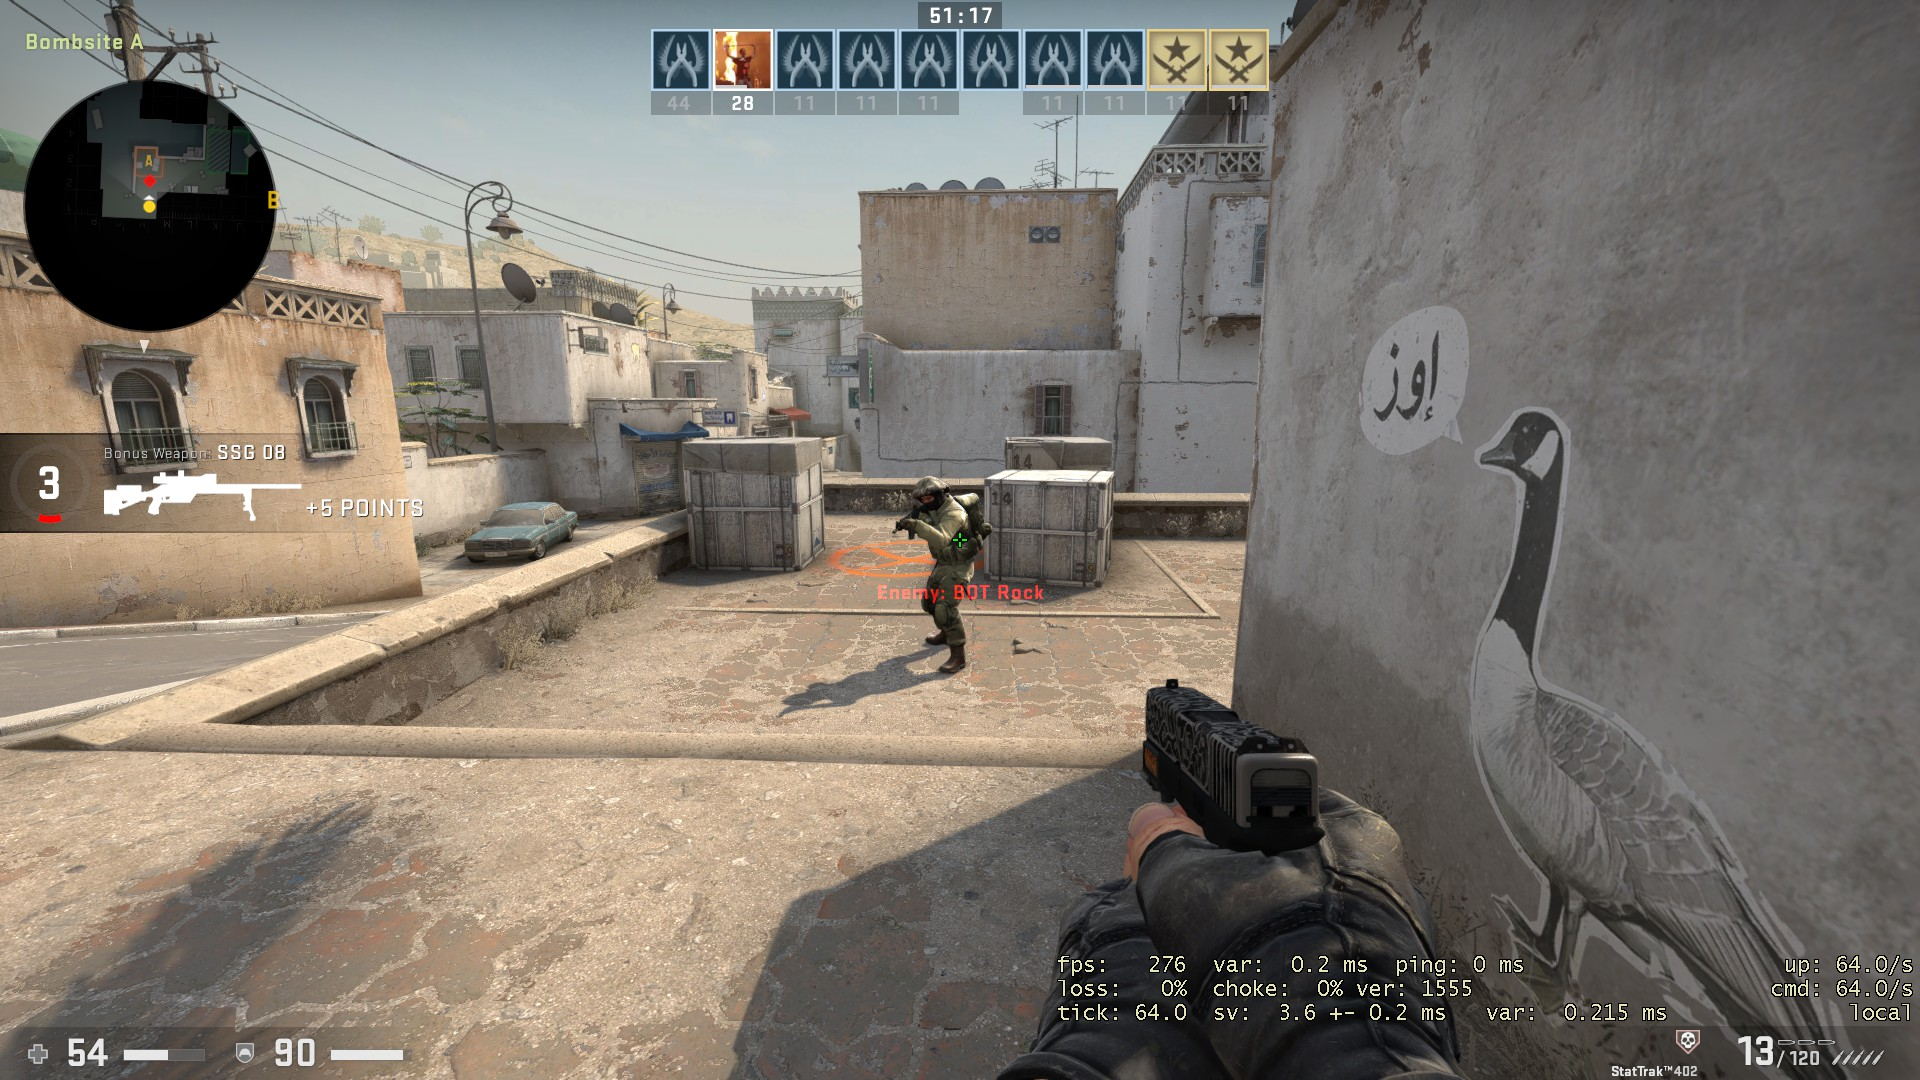player: (883, 471, 995, 682)
